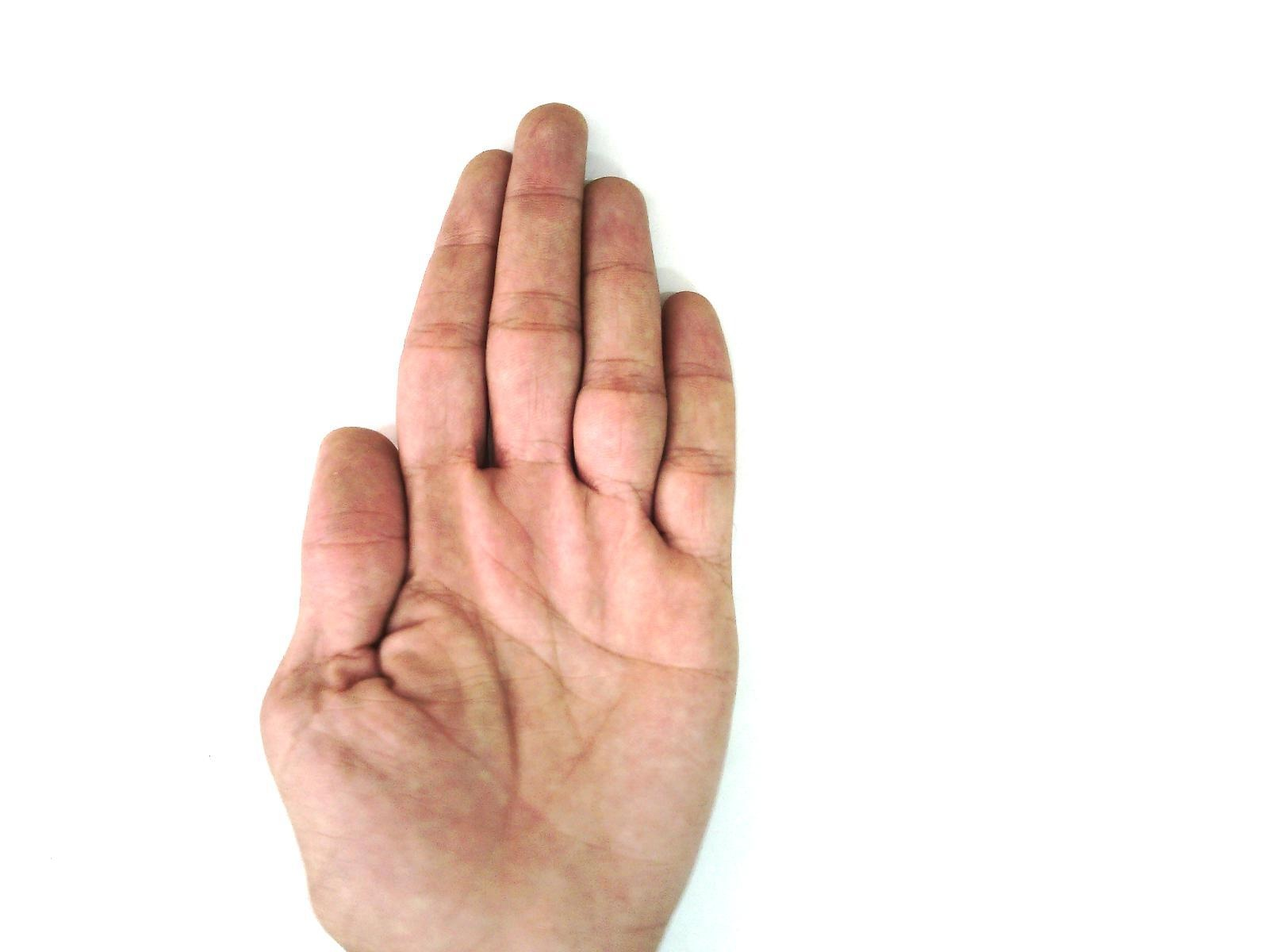open_palm: (258, 102, 744, 951)
